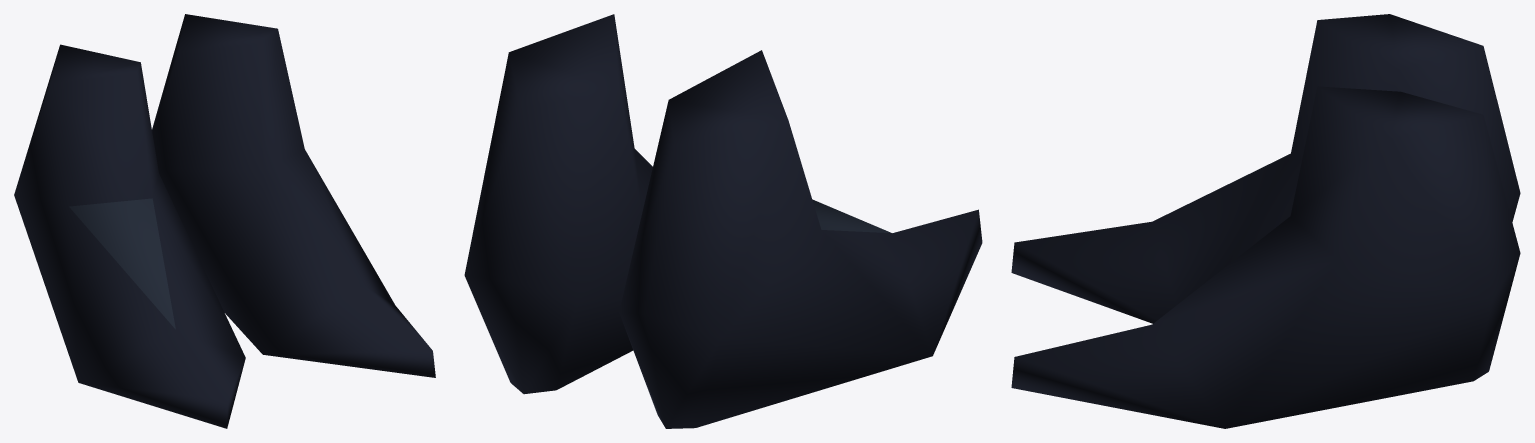
The model's file is f_Shoes1.glb.
3 views of the same model, side by side, from view 1: azimuth 30°, elevation 25°; view 2: azimuth 150°, elevation 25°; view 3: azimuth 270°, elevation 25° (orthographic). The views are drawn at different scales.
Parts seen in each view (by area): view 1: Shoes1; view 2: Shoes1; view 3: Shoes1.
Part boxes in pixels (bbox=[...]): Shoes1: bbox=[14, 14, 435, 428]; Shoes1: bbox=[464, 14, 982, 428]; Shoes1: bbox=[1011, 14, 1520, 428].
Bounding box in the file's own units: 11.75 × 9.04 × 14.46.
Materials: 1 (1 with a texture image).
